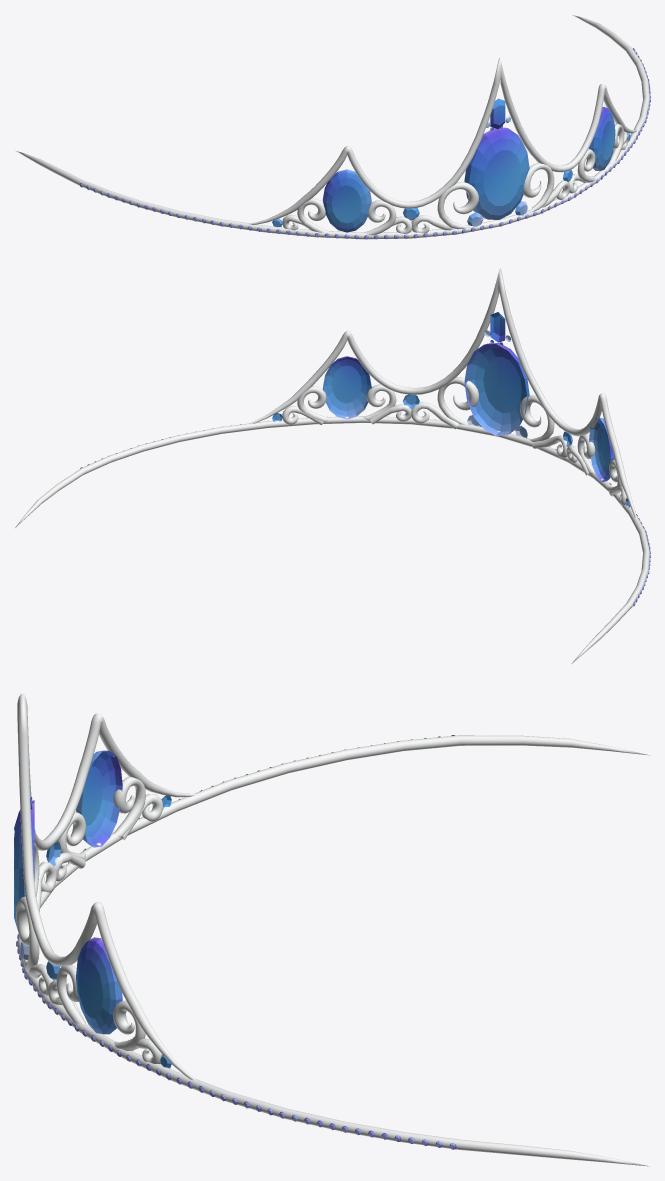
File: Crown.gltf
3 renders of one model, top to bottom at view 1: azimuth 30°, elevation 25°; view 2: azimuth 150°, elevation 25°; view 3: azimuth 270°, elevation 25°, orthographic. The views are drawn at different scales.
Visible parts, largest first — view 1: Crown; view 2: Crown; view 3: Crown.
Part boxes in pixels (x1,y1,x2,y2): Crown: (15, 14, 650, 239); Crown: (15, 268, 650, 663); Crown: (14, 693, 648, 1166).
Bounding box in the file's own units: 1.99 × 0.5983 × 1.29.
2 materials, 2 textured.
